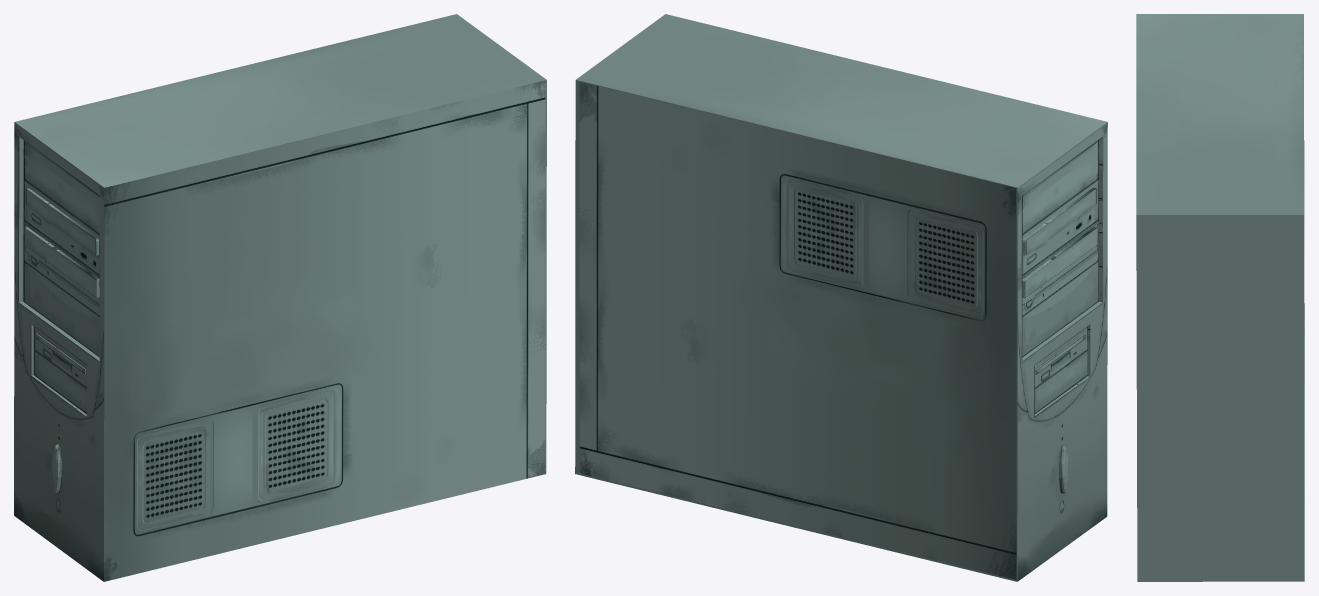
The model's file is Computer block.fbx.
3 renders of one model, left to right at view 1: azimuth 30°, elevation 25°; view 2: azimuth 150°, elevation 25°; view 3: azimuth 270°, elevation 25°, orthographic. The views are drawn at different scales.
Parts seen in each view (by area): view 1: Computer; view 2: Computer; view 3: Computer.
Boxes of the visible parts, x1,y1,x2,y2 form: Computer: (14,14,546,581); Computer: (575,14,1107,581); Computer: (1136,14,1304,581).
Bounding box in the file's own units: 38.07 × 109 × 91.62.
Materials: 1 (1 with a texture image).
